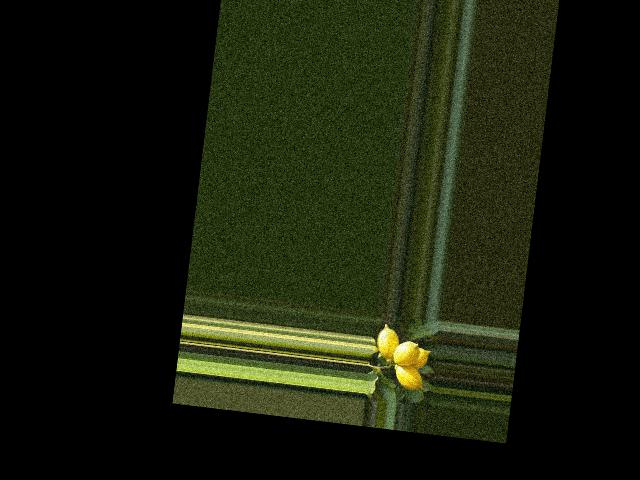lemon: (401, 341, 436, 373)
